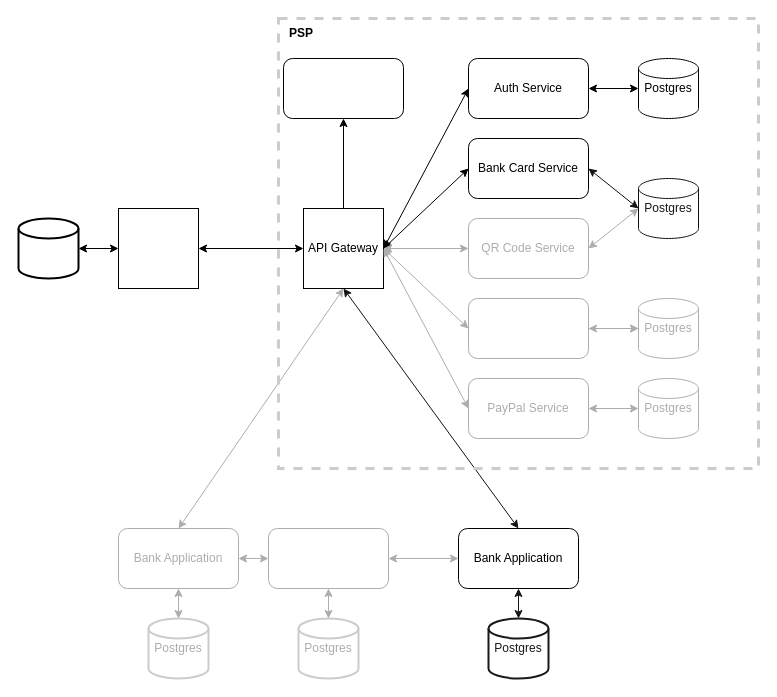
Image size: 777x697. Some labels were removed from this diagram. Here are the shapes that lost their labels. From the top down, the centre of each, then its label:
At point (343, 88): "Eureka".
At point (158, 248): "StaffMate (Employment Agency)".
At point (528, 328): "BitCoin Service".
At point (328, 558): "PCC".
